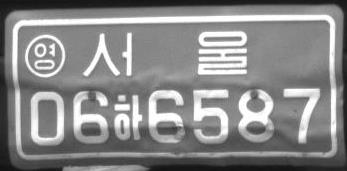0: (29, 90, 65, 146)
5: (191, 88, 228, 144)
6: (147, 89, 185, 144), (73, 90, 109, 144)
7: (282, 86, 321, 143)
8: (237, 88, 275, 143)
서울_D: (81, 29, 248, 79)
영: (23, 33, 66, 78)
하: (113, 93, 142, 141)
